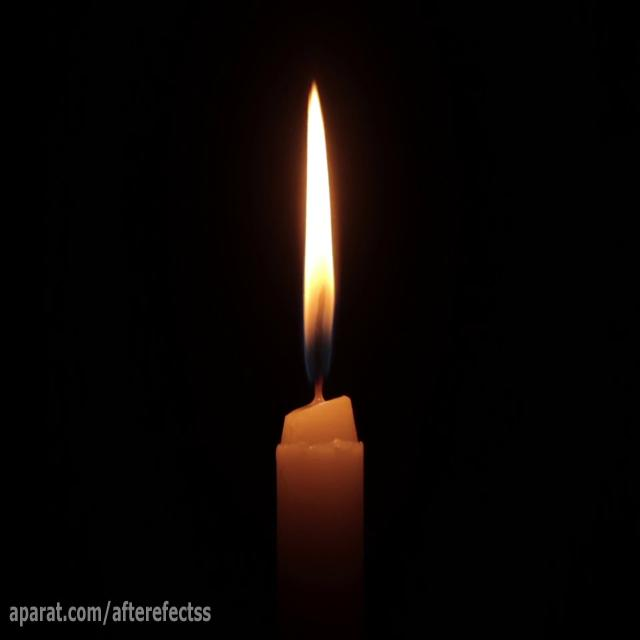fire: (292, 83, 348, 385)
